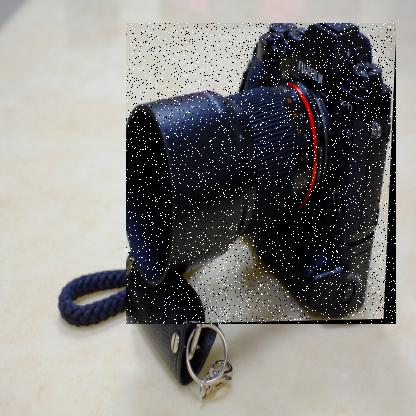Camera: (127, 24, 398, 326)
